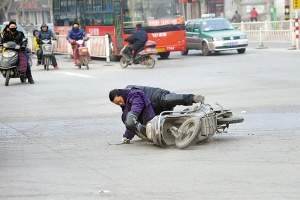falling: (102, 78, 208, 147)
